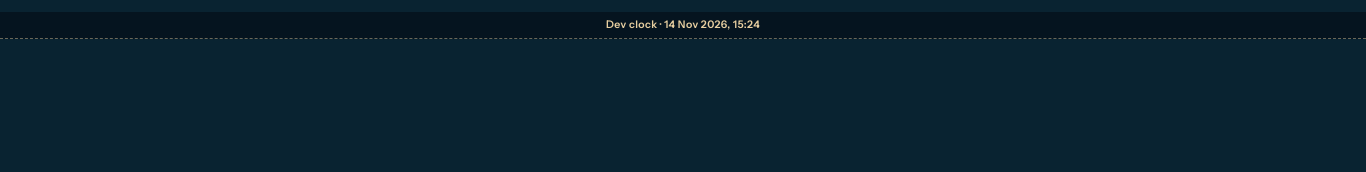
Test: Return to real time › is disabled while the clock already runs at real time
Click the button "Dev clock · 14 Nov 2026, 15:24" at (683, 25), box top-left (598, 12), bottom-right (768, 38)
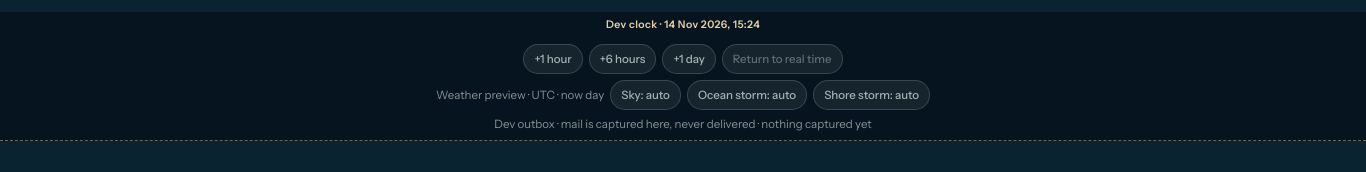
Expected: the button "Return to real time" is disabled, top-left (722, 44), bottom-right (842, 74)
